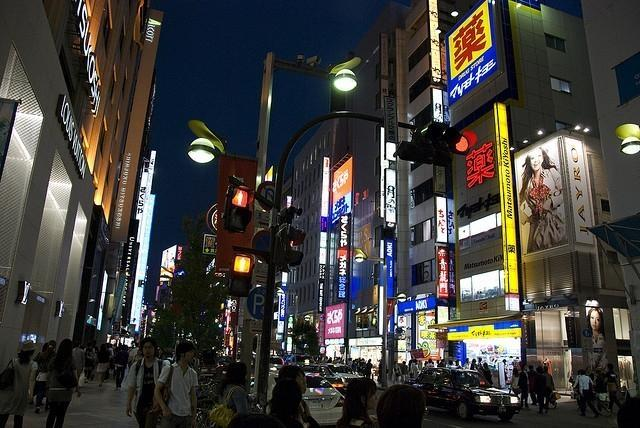car: (402, 367, 520, 421), (303, 372, 344, 426), (303, 364, 345, 391), (334, 364, 358, 386), (270, 355, 285, 370)
